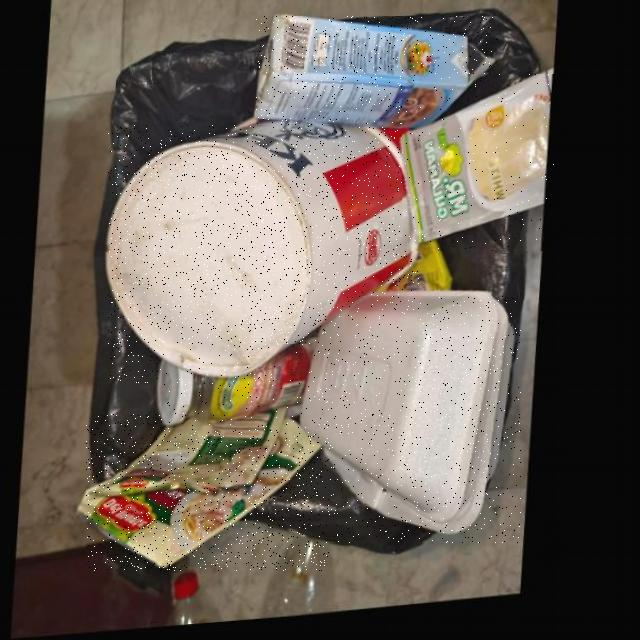glass: (163, 345, 321, 429)
paper: (109, 125, 420, 383), (257, 16, 499, 135)
styrofoam: (309, 297, 521, 543)
wrapper: (87, 424, 329, 571), (403, 76, 555, 251), (93, 413, 295, 499)
